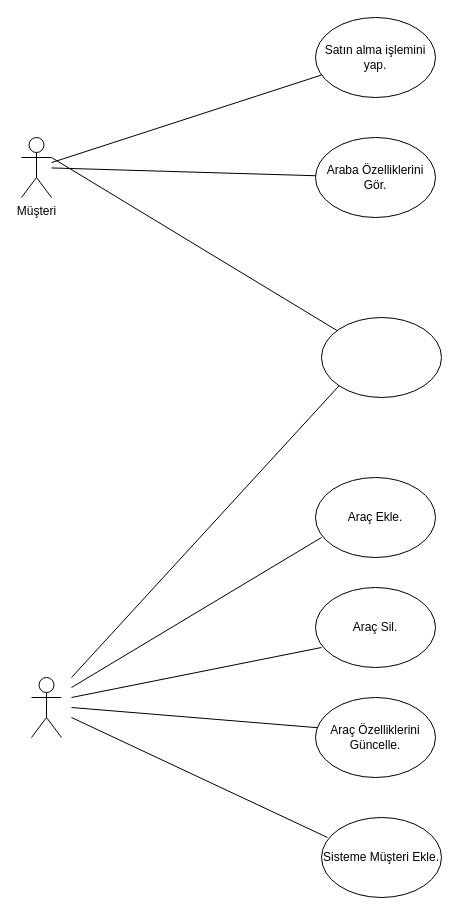
Some shapes in this 459 by 915 pixel diagram are drawn without their labels. Each missing label, with the box of its shape:
Araçları Listele.: (320, 316, 442, 398)
Personel: (30, 676, 62, 738)
